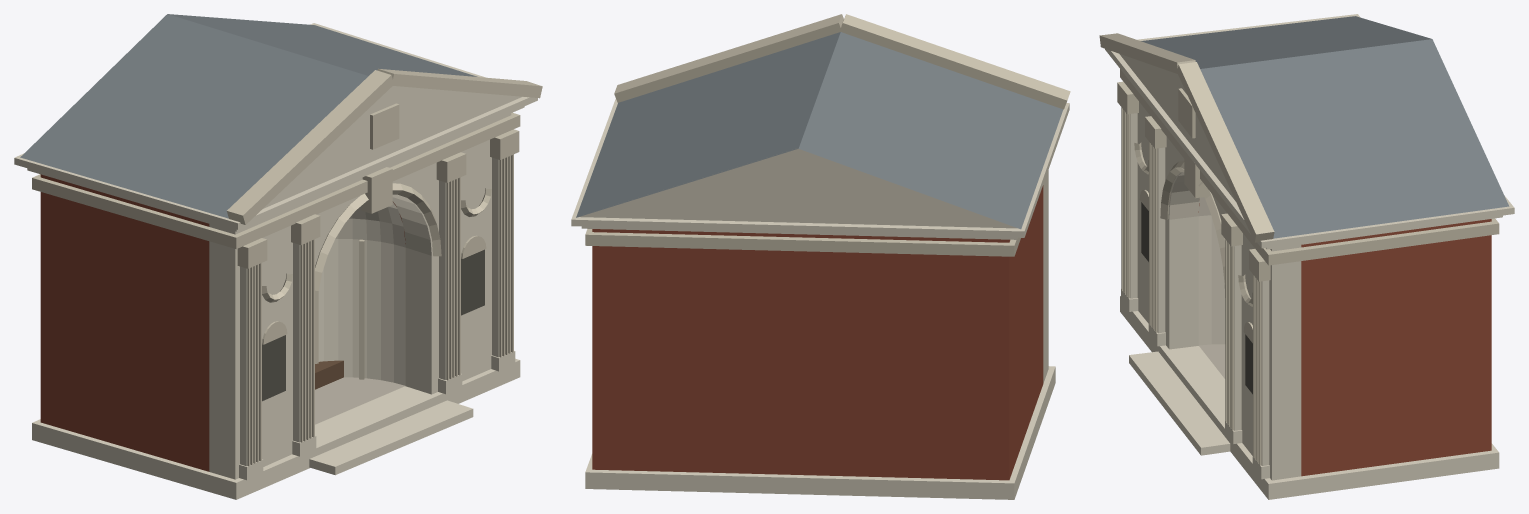
Rendered from queen_annes_alcove.glb.
3 views of the same model, side by side, from view 1: azimuth 30°, elevation 25°; view 2: azimuth 150°, elevation 25°; view 3: azimuth 270°, elevation 25° (orthographic). The views are drawn at different scales.
Size of the model in its own units: 13.06 by 10.19 by 10.59.
